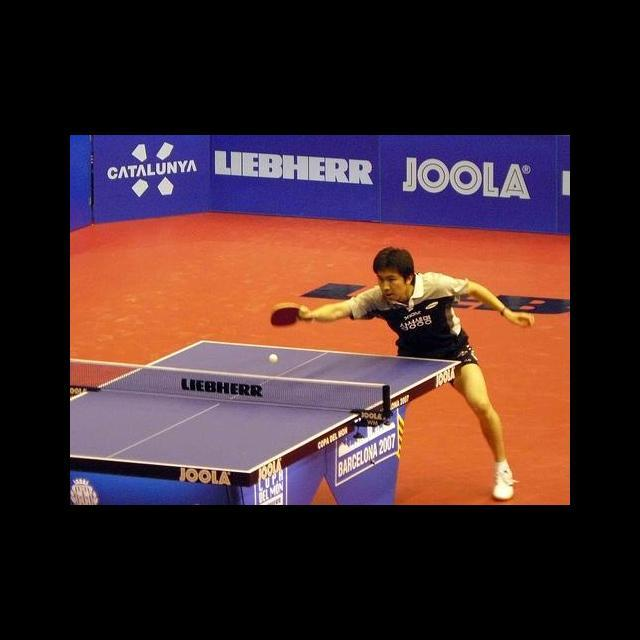ping-pong-ball: (268, 354, 278, 364)
